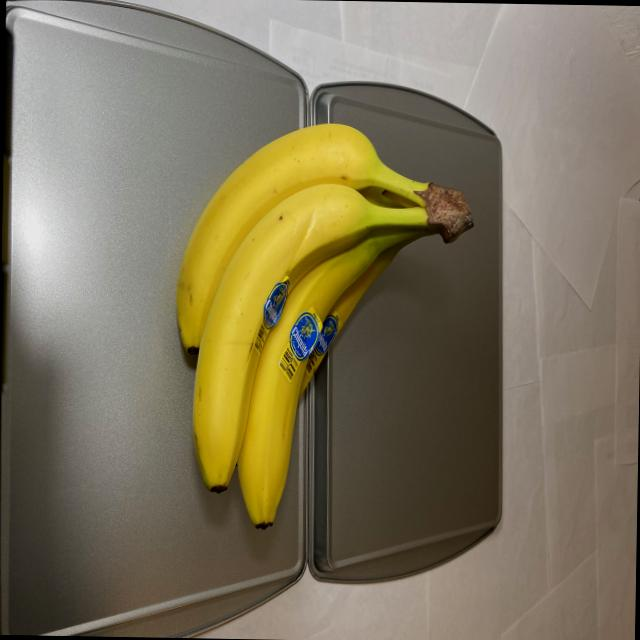banana: (162, 116, 479, 545)
